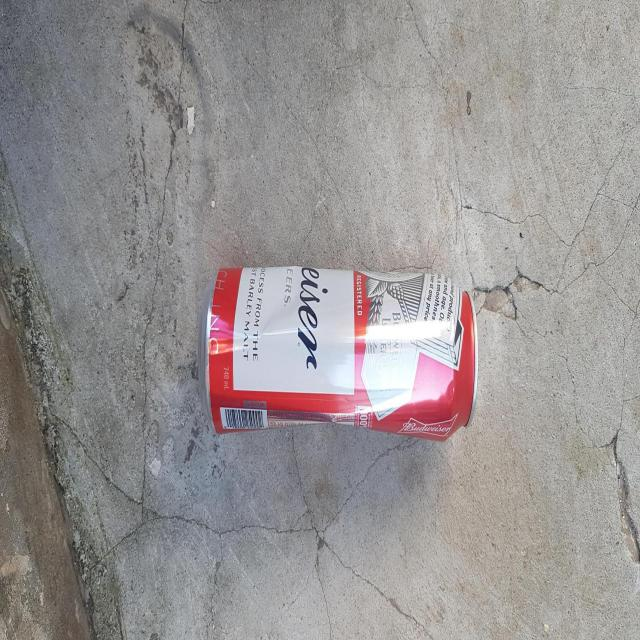can: (198, 265, 479, 440)
